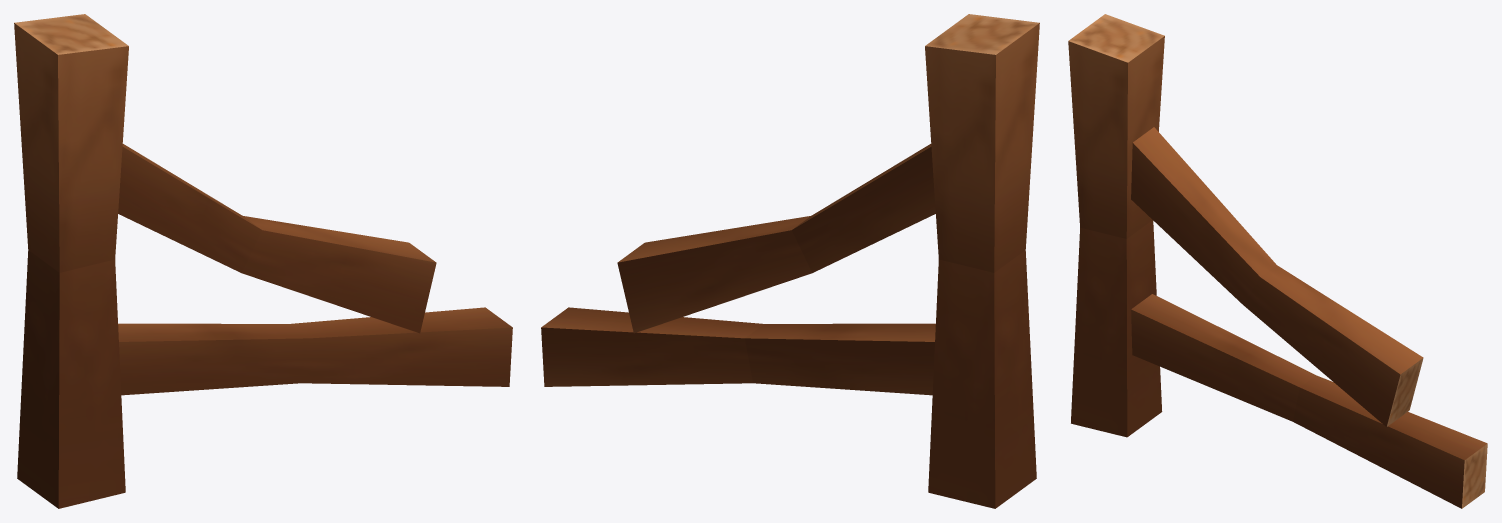
File: fence_06.fbx
3 renders of one model, left to right at view 1: azimuth 30°, elevation 25°; view 2: azimuth 150°, elevation 25°; view 3: azimuth 330°, elevation 25°, orthographic. The views are drawn at different scales.
Visible parts, largest first — view 1: Cube.016; view 2: Cube.016; view 3: Cube.016.
Part boxes in pixels (bbox=[...]): Cube.016: bbox=[14, 14, 512, 508]; Cube.016: bbox=[541, 14, 1039, 508]; Cube.016: bbox=[1068, 14, 1487, 508].
Size of the model in its own units: 106 by 100 by 17.47.
